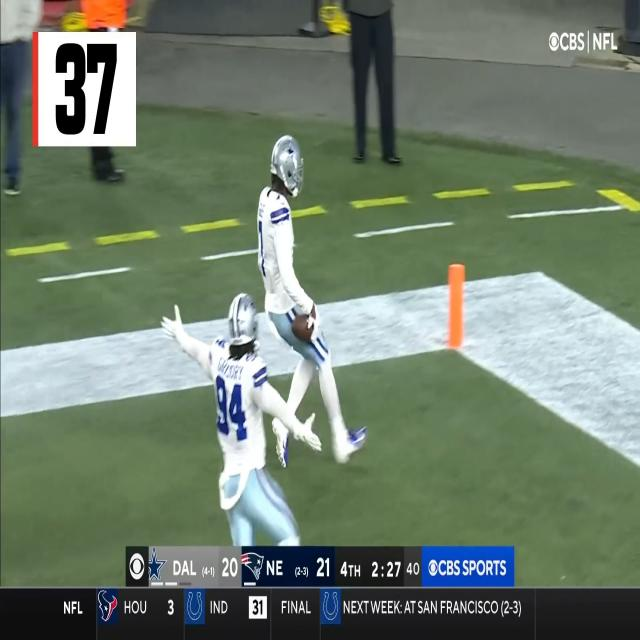football: (292, 311, 316, 343)
players: (257, 135, 367, 469), (174, 292, 311, 545)
